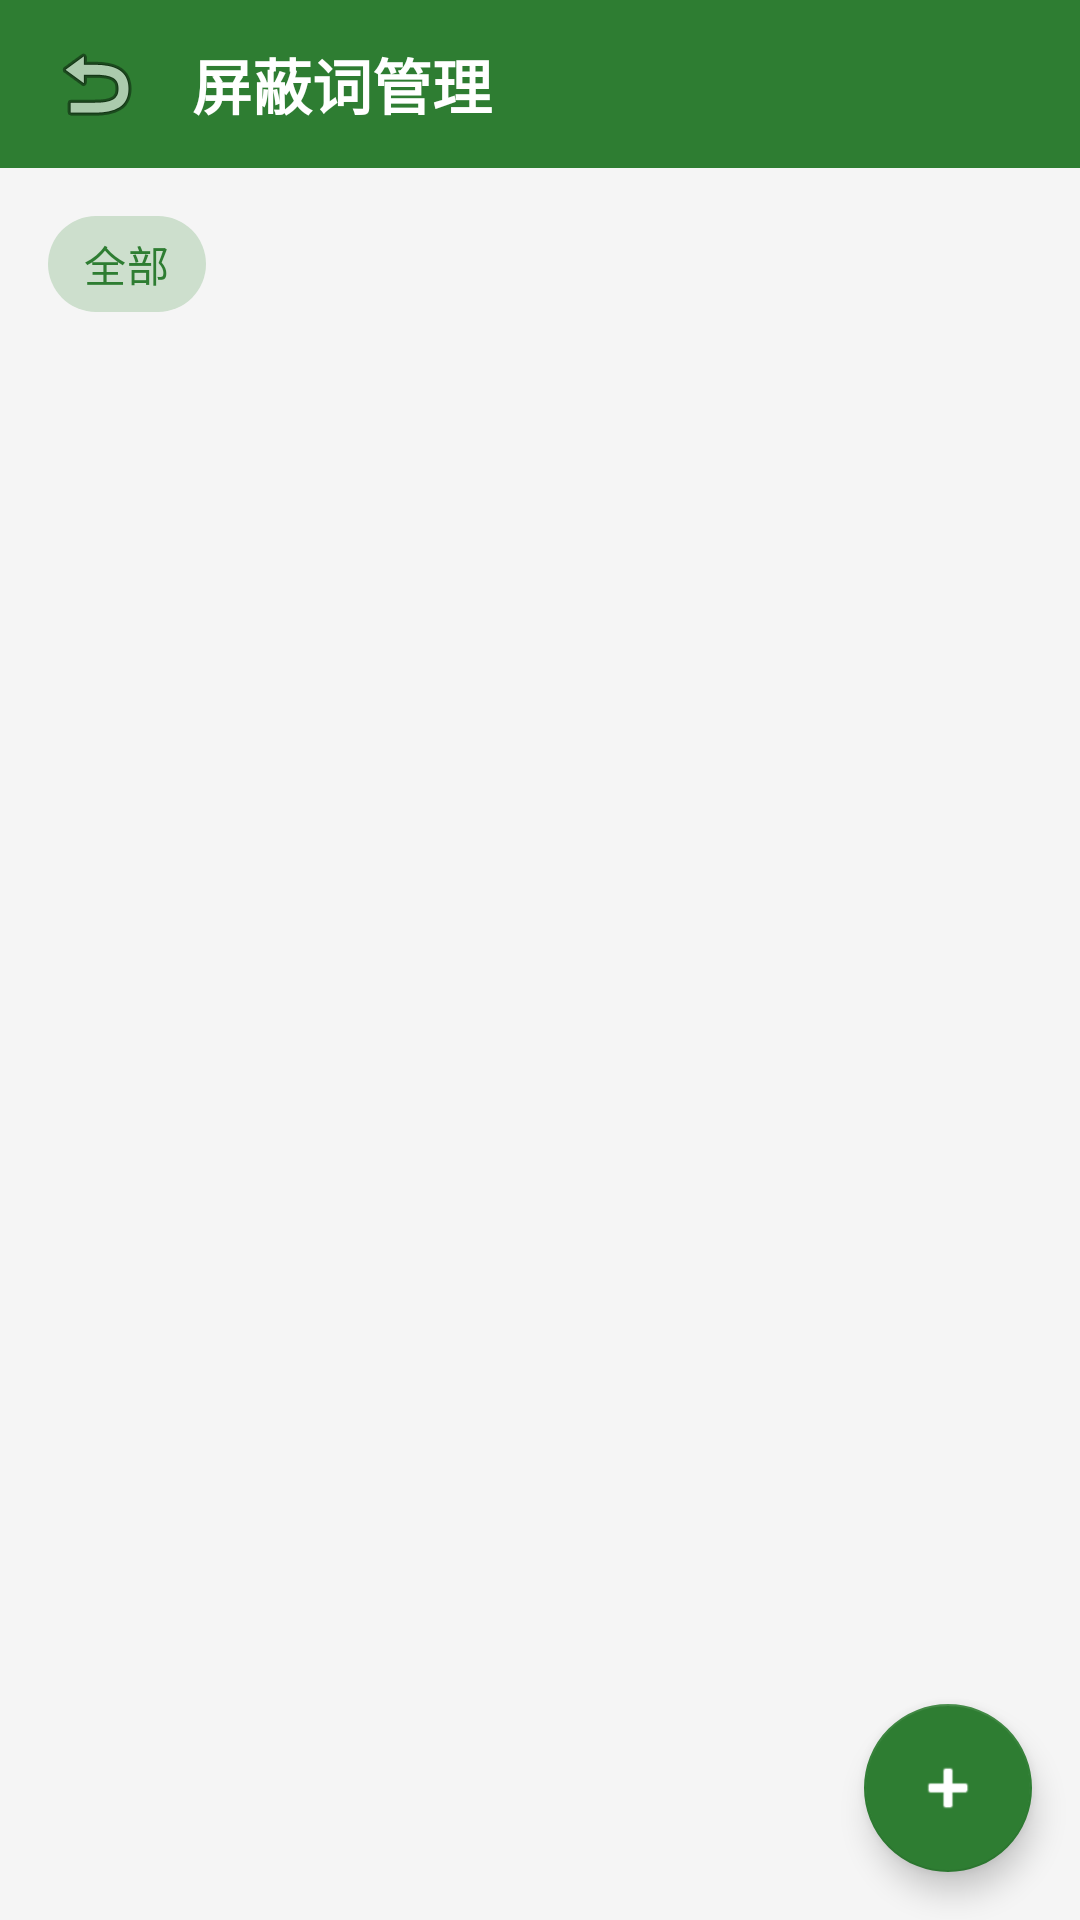

Icon click points for this 1080px×1920px phone screenshot, format (x,y):
添加屏蔽词: (948,1788)
返回: (97,85)
